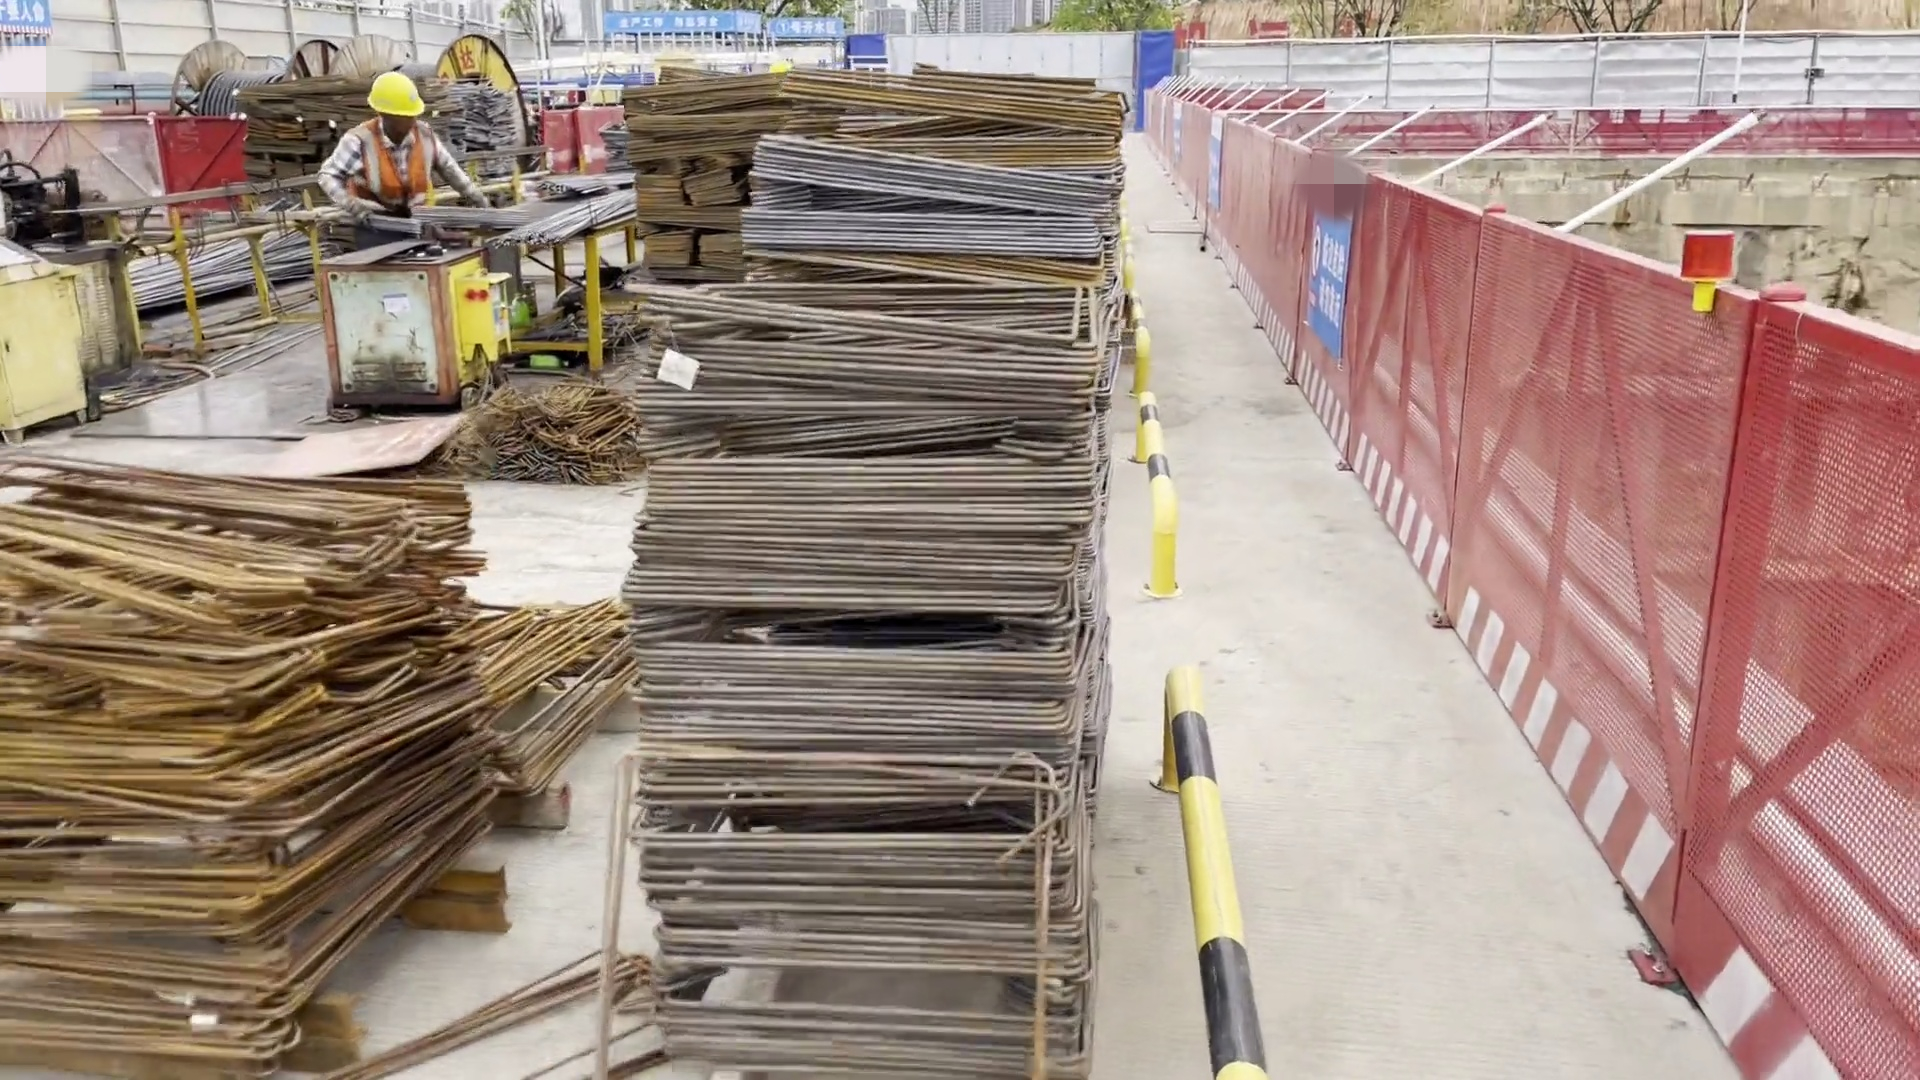cutter: (299, 220, 527, 427)
ebox: (2, 237, 108, 451)
fence: (1530, 208, 1920, 1080), (1373, 173, 1546, 808), (1207, 123, 1417, 500), (1227, 100, 1920, 178), (1142, 92, 1241, 218)
helmet: (352, 65, 436, 120)
person: (289, 60, 490, 238)
rebar: (422, 174, 640, 254), (117, 235, 352, 303)
slogan: (575, 5, 857, 61), (1292, 192, 1368, 373), (1185, 109, 1244, 222), (1, 3, 72, 59), (1156, 100, 1198, 181)
vest: (339, 118, 467, 208)
